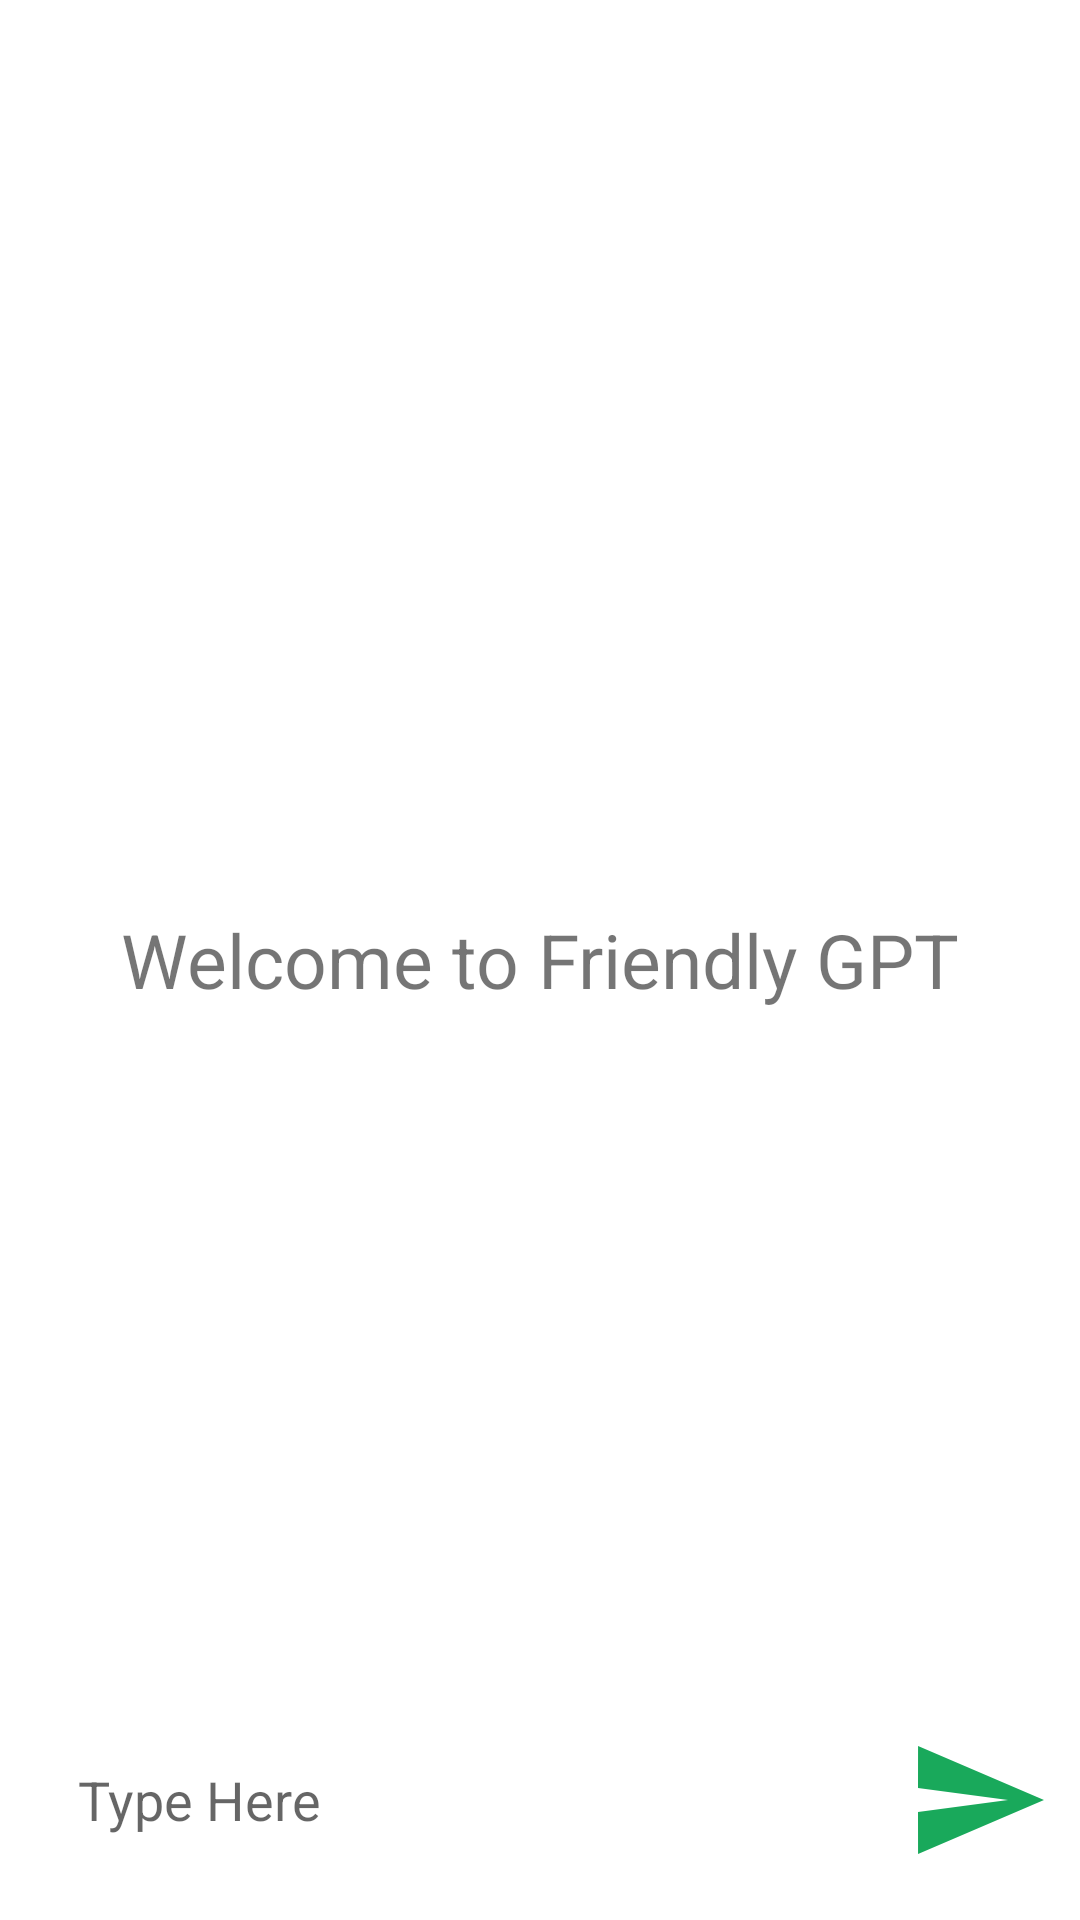

Icons on this 1080 x 1920 Android screen, each with its box as [x1,y1,x2,y2]:
send: [918,1746,1044,1854]
